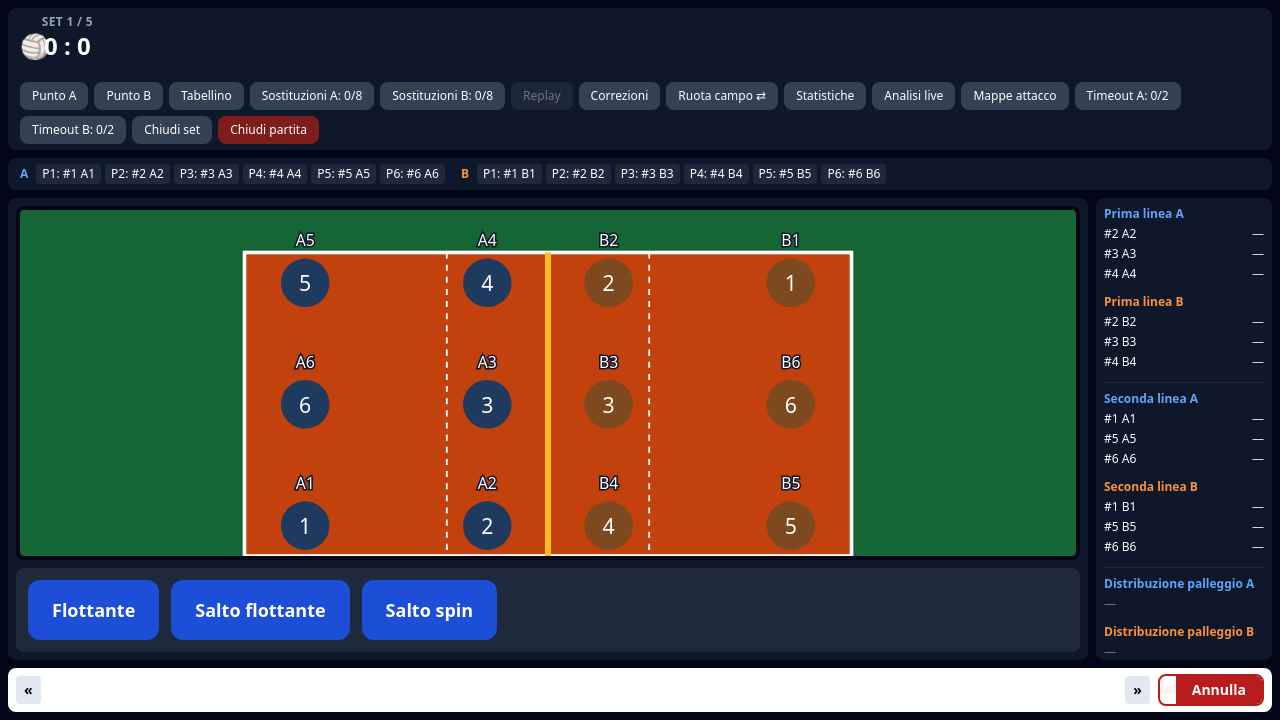
Scenario: LiveScoutingScreen › mostra il contatore dei timeout usati per ciascuna squadra
Expected: the element with test id "punteggio" is shown, [20,29,91,62]
Click the button with test id "timeout-a" at (1128, 96), box [1075,82,1181,110]
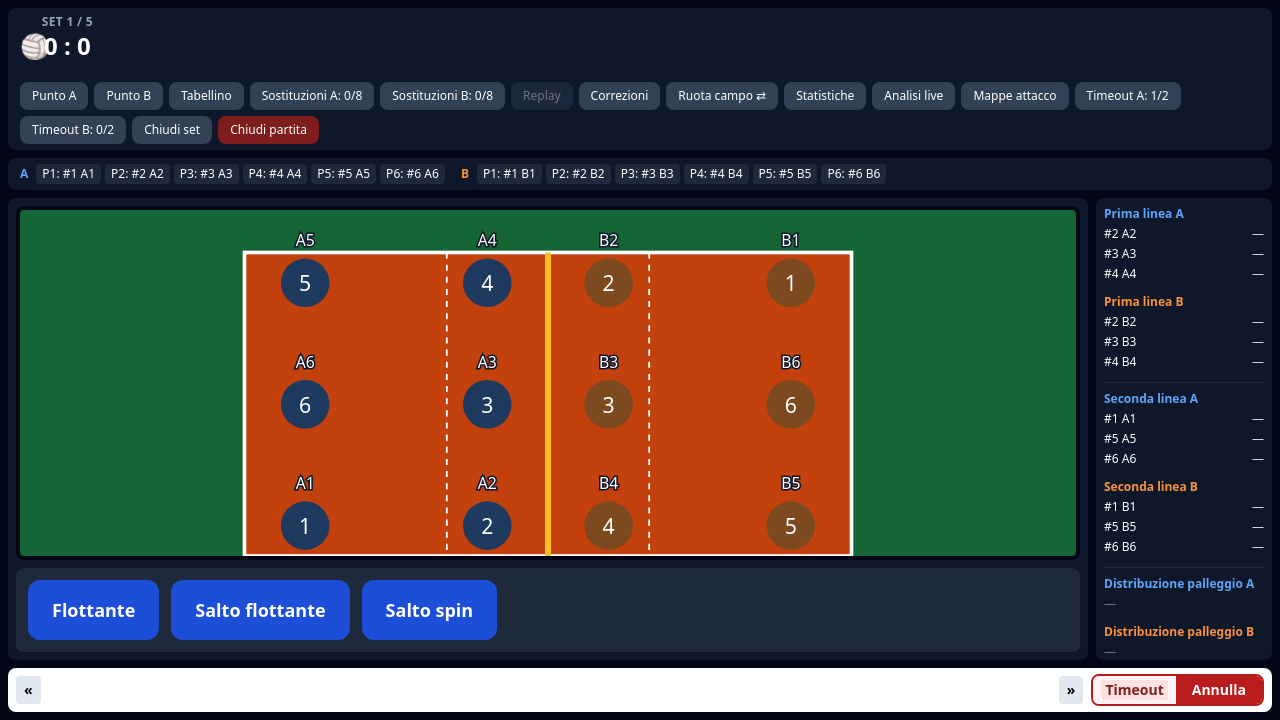
Expected: the button with test id "timeout-b" reads "Timeout B: 0/2", [20,116,126,144]
Expected: the button with test id "timeout-a" reads "Timeout A: 1/2", [1075,82,1181,110]
